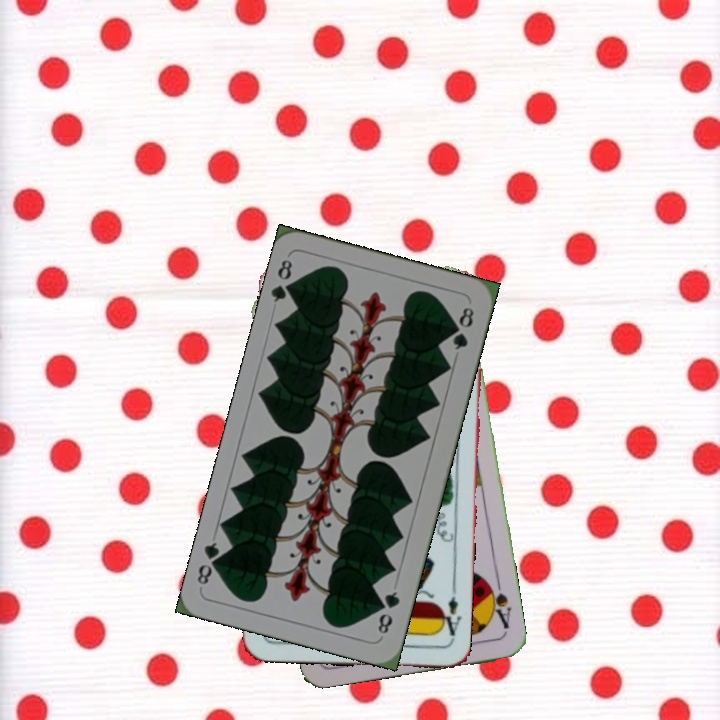EA: (436, 584, 463, 644)
G8: (267, 255, 300, 305), (373, 587, 403, 637)
SA: (482, 575, 514, 632)
